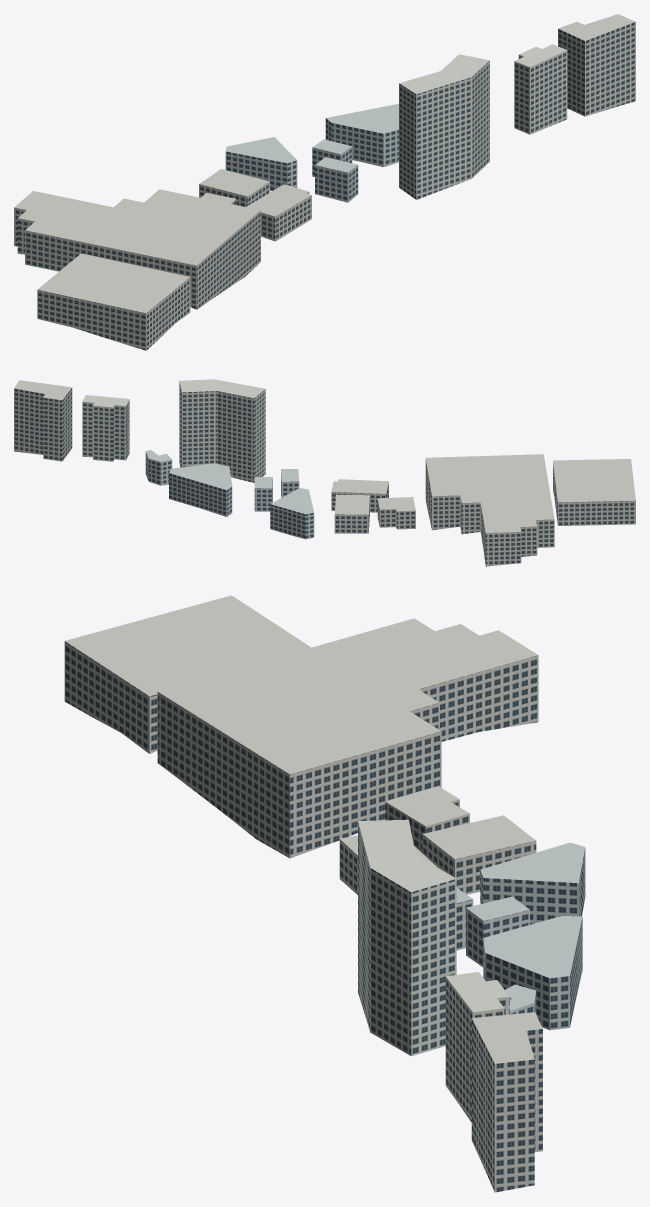
Rendered from city_-9_0.glb.
3 views of the same model, one above another, from view 1: azimuth 30°, elevation 25°; view 2: azimuth 150°, elevation 25°; view 3: azimuth 270°, elevation 25° (orthographic). The views are drawn at different scales.
Size of the model in its own units: 415 by 64.35 by 170.
3 materials, 3 textured.
